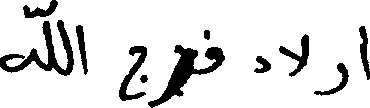ا: (76, 22, 87, 75), (359, 23, 368, 80)
ج: (117, 43, 146, 104)
د: (253, 54, 270, 73)
ر: (157, 43, 195, 105)
ف: (204, 28, 225, 74)
ل: (55, 0, 72, 77), (41, 0, 55, 72)
لا: (277, 31, 308, 77)
ه: (0, 2, 34, 72)
و: (312, 60, 347, 95)
